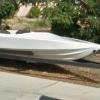Boat: (1, 22, 97, 71)
